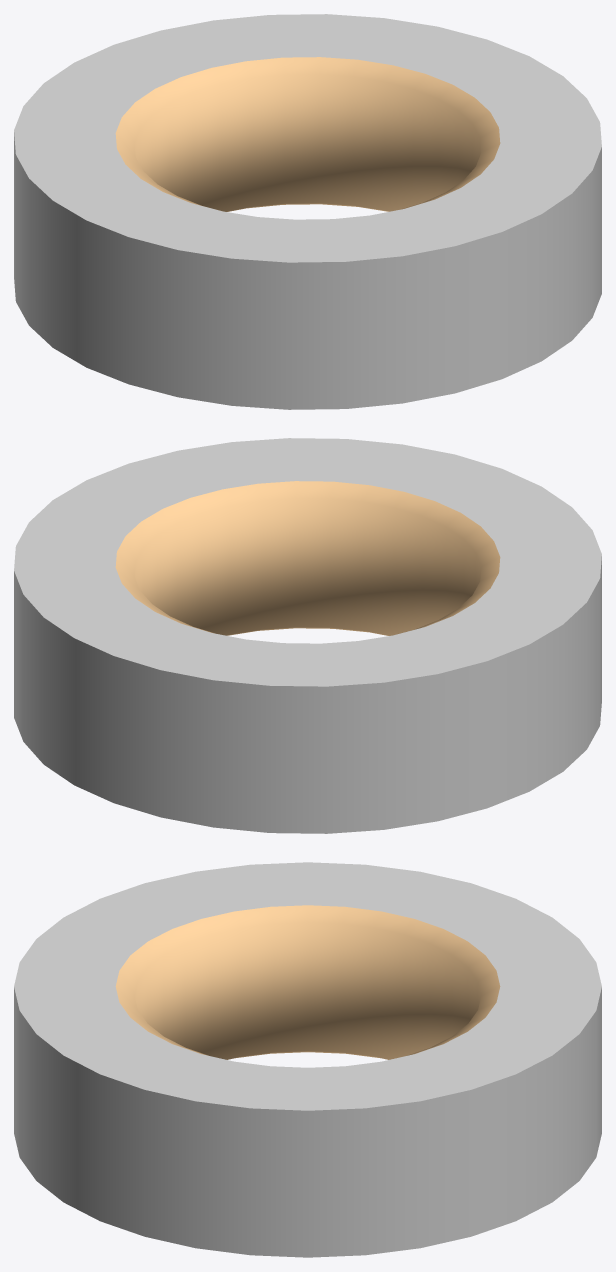
File: Tape2.fbx
The picture shows the model from 3 angles, top to bottom: view 1: azimuth 30°, elevation 25°; view 2: azimuth 150°, elevation 25°; view 3: azimuth 270°, elevation 25°; orthographic projection.
Visible parts, largest first — view 1: TapeInside; view 2: TapeInside; view 3: TapeInside.
Part boxes in pixels (box(x1,y1,x2,y2)): TapeInside: box(14, 14, 601, 409); TapeInside: box(14, 438, 601, 833); TapeInside: box(14, 862, 601, 1257).
Size of the model in its own units: 200 by 55.14 by 200.
